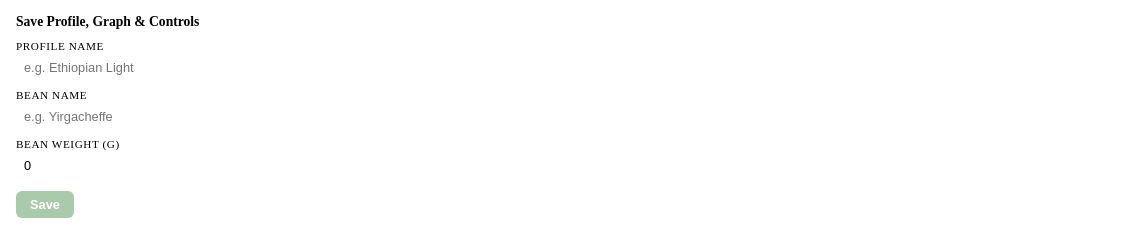
Test case: SaveProfileForm › enables save button when name is entered
Type "My Roast" into the field with placeholder "e.g. Ethiopian Light".
click(572, 68); type("My Roast")  # box 16,54 -> 1128,81
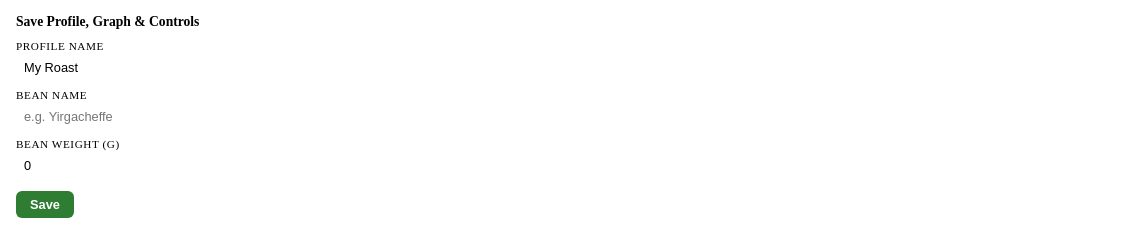
expect the button "Save" is enabled: met, box 16,191 -> 74,218
